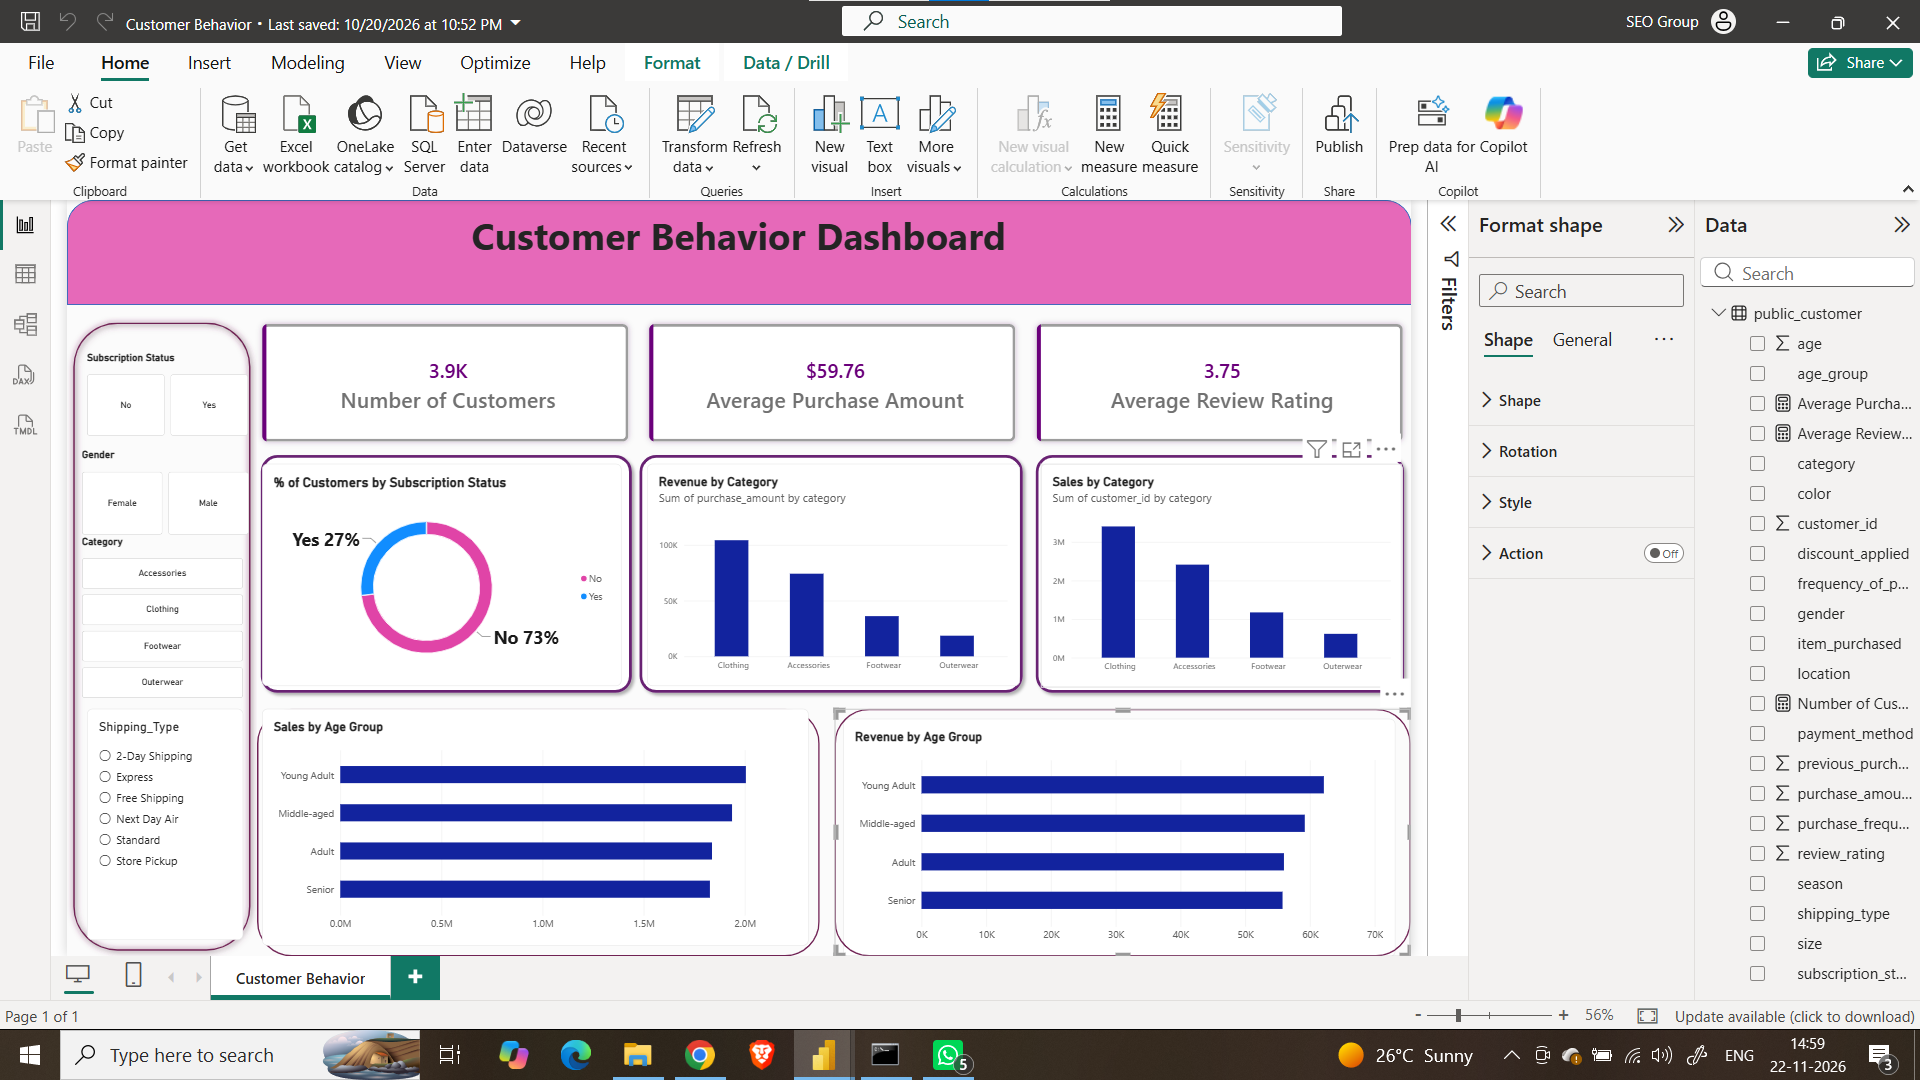

Layout of this report page (visuals, bound fields, positions):
{"tool":"powerbi","page":{"name":"Customer Behavior","canvas":[1920,1080],"ordinal":0},"visuals":[{"type":"cardVisual","fields":{"Data":["public_customer.Number of Customers","public_customer.Average Purchase Amount","public_customer.Average Review Rating"]},"box":[267.3,165.4,1651.9,190.4],"z":0},{"type":"shape","box":[0,0,1920.8,150],"z":1000},{"type":"textbox","box":[0,13.5,1919.2,136.5],"z":2000},{"type":"shape","box":[267.3,355.8,548.1,357.7],"z":3000},{"type":"donutChart","title":"% of Customers by Subscription Status","fields":{"Category":["public_customer.subscription_status"],"Y":["CountNonNull(public_customer.customer_id)"]},"box":[278.8,376.9,513.5,317.3],"z":4000},{"type":"shape","box":[809.6,355.8,565.4,357.7],"z":5000},{"type":"shape","box":[1375,355.8,544.2,357.7],"z":6000},{"type":"clusteredColumnChart","title":"Revenue by Category","fields":{"Category":["public_customer.category"],"Y":["Sum(public_customer.purchase_amount)"]},"box":[828.8,376.9,532.7,317.3],"z":7000},{"type":"clusteredColumnChart","title":"Sales by Category","fields":{"Category":["public_customer.category"],"Y":["Sum(public_customer.customer_id)"]},"box":[1390.4,376.9,517.3,319.2],"z":8000},{"type":"shape","box":[0,165.4,271.2,915.4],"z":9000},{"type":"advancedSlicerVisual","fields":{"Values":["public_customer.subscription_status"]},"box":[28.8,215.4,230.8,121.2],"z":10000},{"type":"advancedSlicerVisual","fields":{"Values":["public_customer.gender"]},"box":[21.2,355.8,238.5,123.1],"z":11000},{"type":"advancedSlicerVisual","fields":{"Values":["public_customer.category"]},"box":[21.2,478.8,230.8,234.6],"z":12000},{"type":"listSlicer","fields":{"Values":["public_customer.shipping_type"]},"box":[28.8,726.9,223.1,330.8],"z":13000},{"type":"clusteredBarChart","title":"Revenue by Age Group","fields":{"Category":["public_customer.age_group"],"Y":["Sum(public_customer.purchase_amount)"]},"box":[1109.6,740.4,788.5,340.4],"z":14000},{"type":"shape","title":"Revenue by Age Group ","box":[271.2,726.9,803.8,353.8],"z":15000},{"type":"shape","title":"Revenue by Age Group ","box":[1096.2,726.9,823.1,353.8],"z":16000},{"type":"clusteredBarChart","title":"Sales by Age Group","fields":{"Category":["public_customer.age_group"],"Y":["Sum(public_customer.customer_id)"]},"box":[278.8,726.9,780.8,338.5],"z":17000}]}

Visuals, with their boxes on the page's 1920x1080 design canvas (x1, y1, x2, y2). These are canvas units, not pixel positions in the 1920x1080 screenshot, which may show the page scaled, cropped or inside an application window:
cardVisual - public_customer.Number of Customers x public_customer.Average Purchase Amount: [left=267, top=165, right=1919, bottom=356]
shape: [left=0, top=0, right=1921, bottom=150]
textbox: [left=0, top=14, right=1919, bottom=150]
shape: [left=267, top=356, right=815, bottom=714]
"% of Customers by Subscription Status" donutChart: [left=279, top=377, right=792, bottom=694]
shape: [left=810, top=356, right=1375, bottom=714]
shape: [left=1375, top=356, right=1919, bottom=714]
"Revenue by Category" clusteredColumnChart: [left=829, top=377, right=1362, bottom=694]
"Sales by Category" clusteredColumnChart: [left=1390, top=377, right=1908, bottom=696]
shape: [left=0, top=165, right=271, bottom=1081]
advancedSlicerVisual - public_customer.subscription_status: [left=29, top=215, right=260, bottom=337]
advancedSlicerVisual - public_customer.gender: [left=21, top=356, right=260, bottom=479]
advancedSlicerVisual - public_customer.category: [left=21, top=479, right=252, bottom=713]
listSlicer - public_customer.shipping_type: [left=29, top=727, right=252, bottom=1058]
"Revenue by Age Group" clusteredBarChart: [left=1110, top=740, right=1898, bottom=1081]
"Revenue by Age Group " shape: [left=271, top=727, right=1075, bottom=1081]
"Revenue by Age Group " shape: [left=1096, top=727, right=1919, bottom=1081]
"Sales by Age Group" clusteredBarChart: [left=279, top=727, right=1060, bottom=1065]
